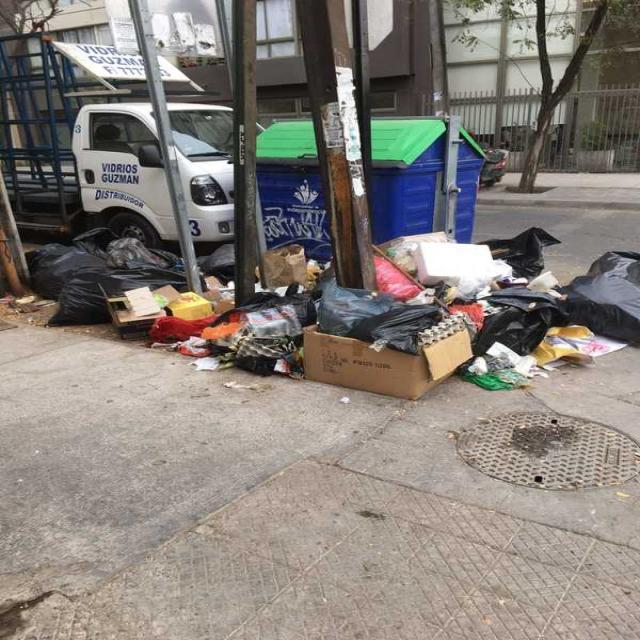Trashbag: (569, 250, 640, 334), (59, 264, 202, 298), (316, 276, 378, 343), (486, 220, 552, 272), (496, 292, 543, 360), (28, 241, 112, 268), (388, 310, 429, 351)
